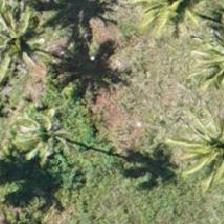coconut_tree: (0, 89, 78, 179), (175, 106, 223, 196), (128, 0, 218, 46), (0, 0, 49, 78)
